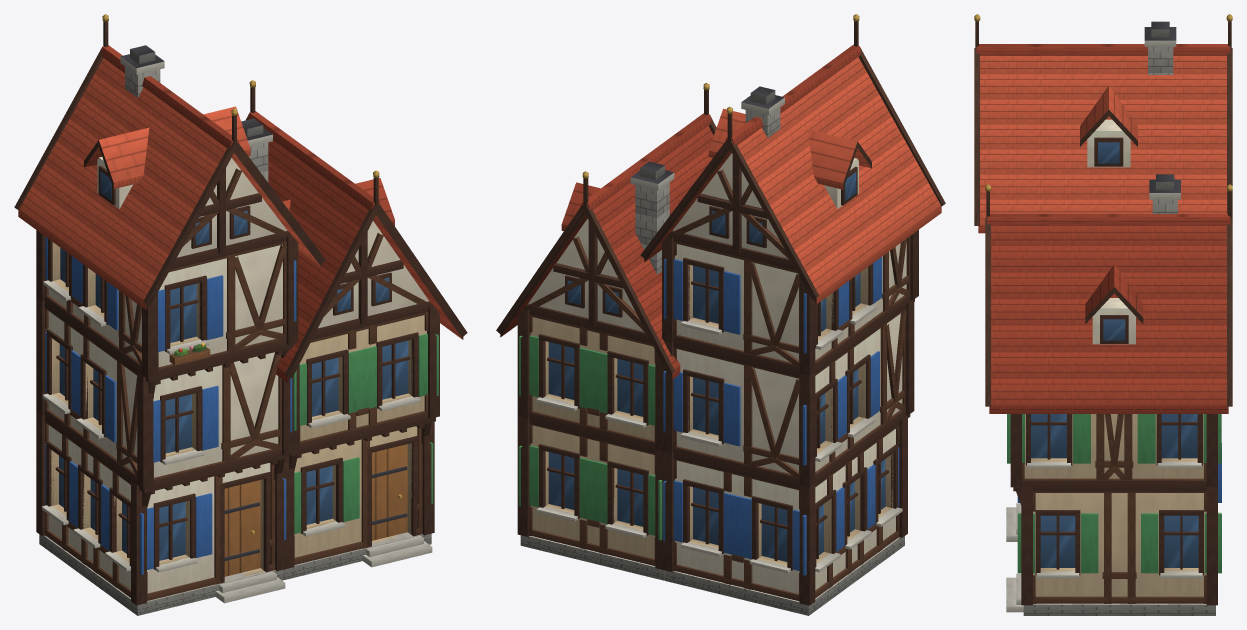
Rendered from res_rowhouse_01.glb.
3 views of the same model, side by side, from view 1: azimuth 30°, elevation 25°; view 2: azimuth 150°, elevation 25°; view 3: azimuth 270°, elevation 25° (orthographic). The views are drawn at different scales.
Parts seen in each view (by area): view 1: res_rowhouse_01; view 2: res_rowhouse_01; view 3: res_rowhouse_01.
Part boxes in pixels (<box>): res_rowhouse_01: <box>14,14,467,615</box>; res_rowhouse_01: <box>496,14,945,615</box>; res_rowhouse_01: <box>974,14,1232,615</box>.
Bounding box in the file's own units: 10.22 × 15.14 × 7.15.
1 material, 1 textured.
